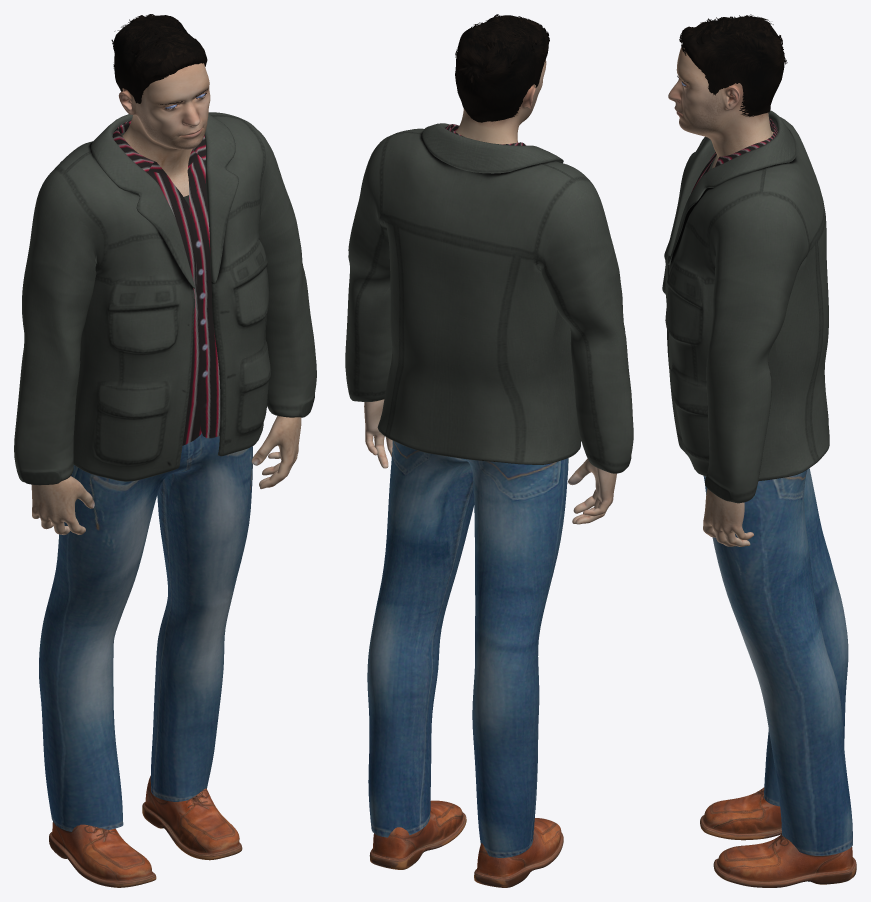
The model's file is choir-singer-daniel-v1.glb.
The picture shows the model from 3 angles, left to right: view 1: azimuth 30°, elevation 25°; view 2: azimuth 150°, elevation 25°; view 3: azimuth 270°, elevation 25°; orthographic projection. The views are drawn at different scales.
Parts seen in each view (by area): view 1: man_body.male_casualsuit05, man_body, man_body.shoes01, man_body.short01; view 2: man_body.male_casualsuit05, man_body.short01, man_body.shoes01, man_body; view 3: man_body.male_casualsuit05, man_body.shoes01, man_body, man_body.short01.
Boxes of the visible parts, bbox=[...] form: man_body.male_casualsuit05: bbox=[14, 112, 316, 831]; man_body: bbox=[31, 63, 301, 534]; man_body.shoes01: bbox=[49, 775, 242, 887]; man_body.short01: bbox=[111, 14, 207, 103]; man_body.male_casualsuit05: bbox=[345, 123, 633, 857]; man_body.short01: bbox=[455, 14, 549, 122]; man_body.shoes01: bbox=[369, 800, 563, 887]; man_body: bbox=[364, 59, 616, 524]; man_body.male_casualsuit05: bbox=[662, 110, 852, 855]; man_body.shoes01: bbox=[700, 787, 856, 887]; man_body: bbox=[668, 47, 773, 546]; man_body.short01: bbox=[679, 14, 787, 116].
Bounding box in the file's own units: 0.6591 × 1.79 × 0.3814.
Materials: 9 (9 with a texture image).
